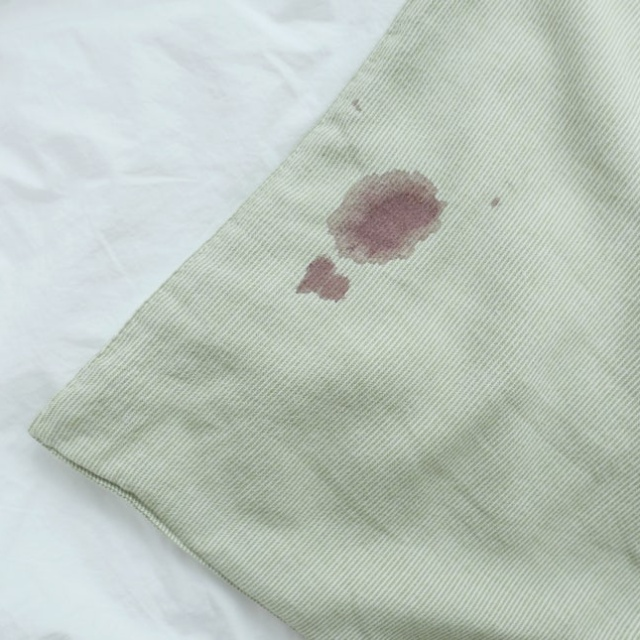blood: (276, 162, 468, 310)
